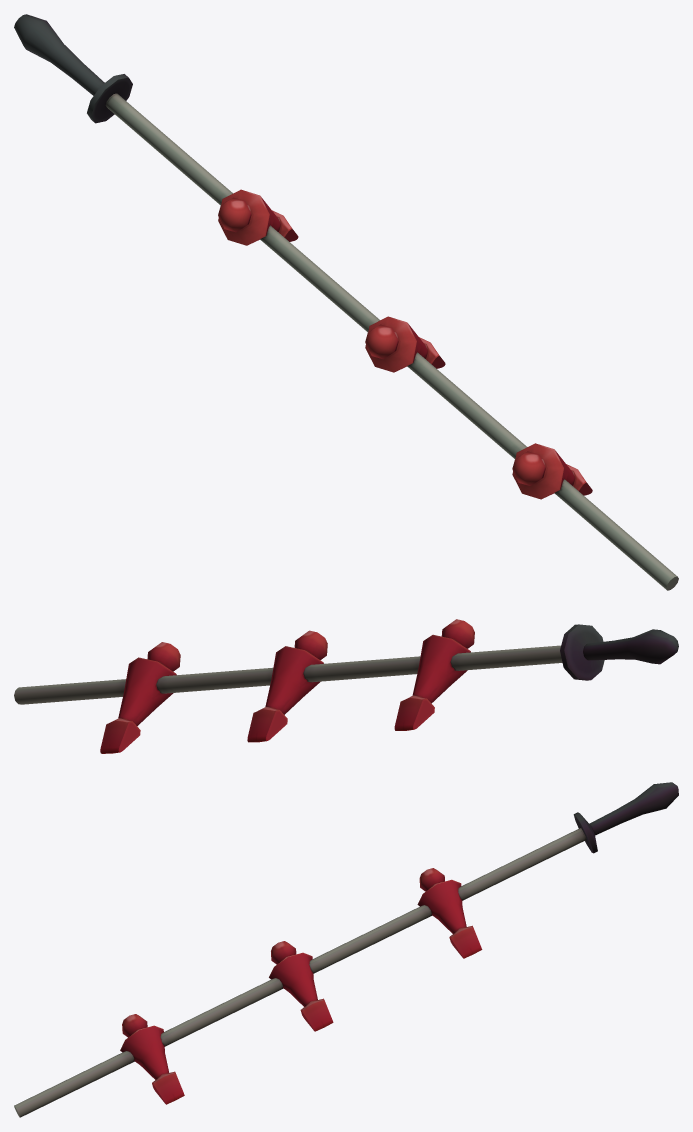
The model's file is foosball roblox.fbx.
3 renders of one model, top to bottom at view 1: azimuth 30°, elevation 25°; view 2: azimuth 210°, elevation 25°; view 3: azimuth 270°, elevation 25°, orthographic. The views are drawn at different scales.
Visible parts, largest first — view 1: EZBXW8_low.002; view 2: EZBXW8_low.002; view 3: EZBXW8_low.002.
Boxes of the visible parts, x1=… form: EZBXW8_low.002: x1=14, y1=14, x2=678, y2=590; EZBXW8_low.002: x1=14, y1=619, x2=678, y2=753; EZBXW8_low.002: x1=14, y1=782, x2=678, y2=1117.
Size of the model in its own units: 1.66 by 2.02 by 4.88.
1 material, 1 textured.
